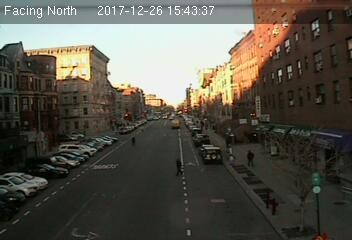car: (201, 147, 222, 163)
pedestrian: (174, 156, 184, 178), (246, 149, 255, 170)
